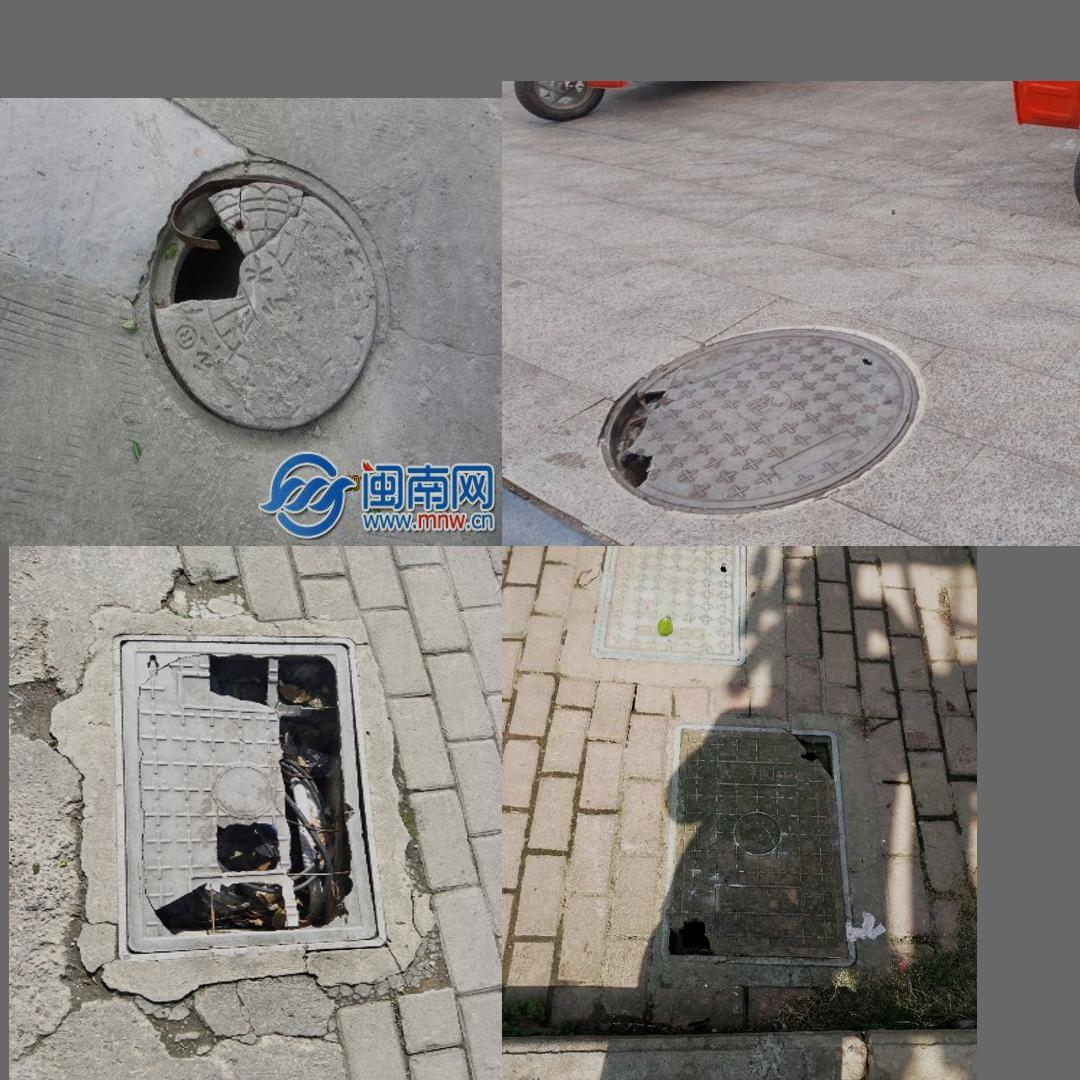broke: (113, 633, 386, 957), (120, 149, 393, 446), (594, 329, 911, 506), (665, 726, 839, 965)
